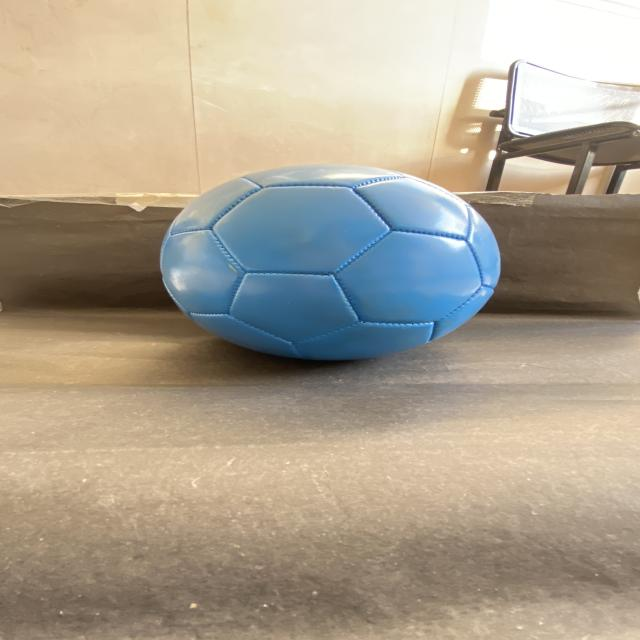blue_ball: (160, 168, 500, 364)
